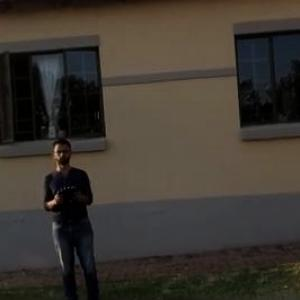follow: (38, 133, 106, 299)
